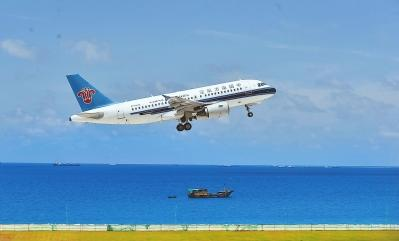airplane: (57, 71, 292, 131)
